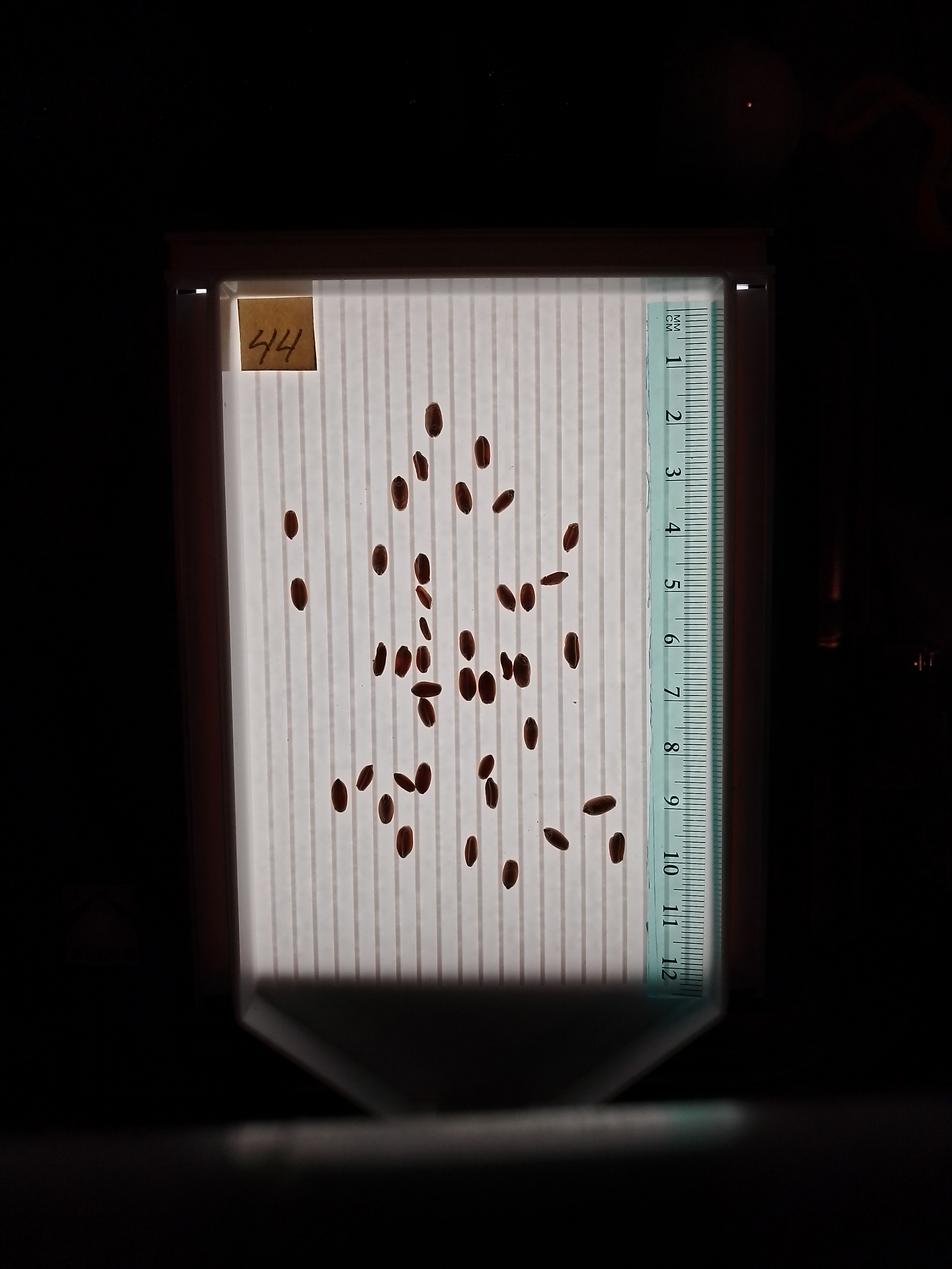seed mask: (584, 795, 615, 816), (544, 827, 569, 852), (425, 403, 443, 437), (391, 477, 409, 510), (478, 672, 496, 704), (513, 655, 531, 687), (564, 633, 580, 668), (474, 437, 491, 469), (331, 780, 348, 812), (396, 827, 413, 858), (459, 669, 476, 700), (455, 483, 472, 514), (523, 718, 539, 750), (415, 763, 432, 793), (395, 646, 412, 676), (413, 681, 441, 699), (492, 490, 513, 514), (291, 579, 307, 610), (415, 554, 431, 584), (609, 833, 625, 863), (418, 699, 435, 727), (497, 585, 515, 611), (459, 631, 475, 659), (563, 524, 579, 552), (379, 795, 394, 824), (372, 545, 387, 574), (373, 644, 387, 675), (503, 861, 519, 888), (413, 453, 429, 480), (520, 584, 535, 612), (357, 765, 373, 791), (541, 570, 567, 586), (416, 646, 431, 673), (485, 781, 499, 808), (284, 511, 298, 538), (478, 755, 494, 778), (395, 773, 414, 792), (464, 837, 476, 866), (417, 587, 431, 608), (501, 654, 512, 679), (420, 618, 431, 638)
